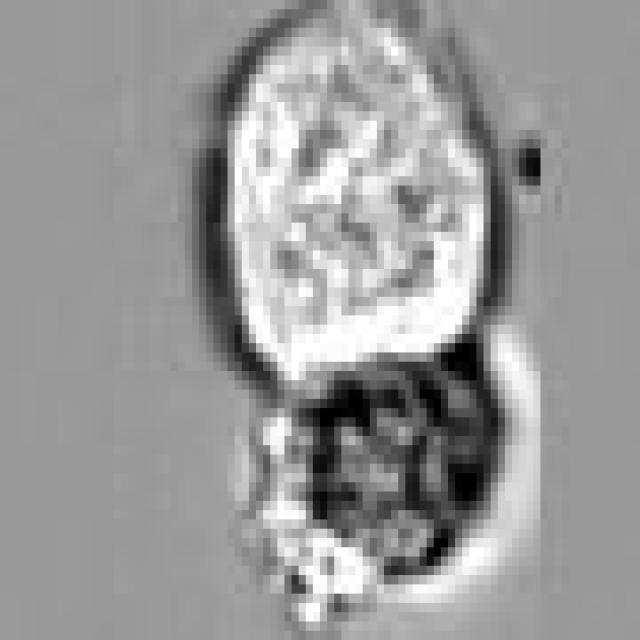Cancer Cell: (206, 9, 505, 371)
WBC: (299, 316, 519, 584)
